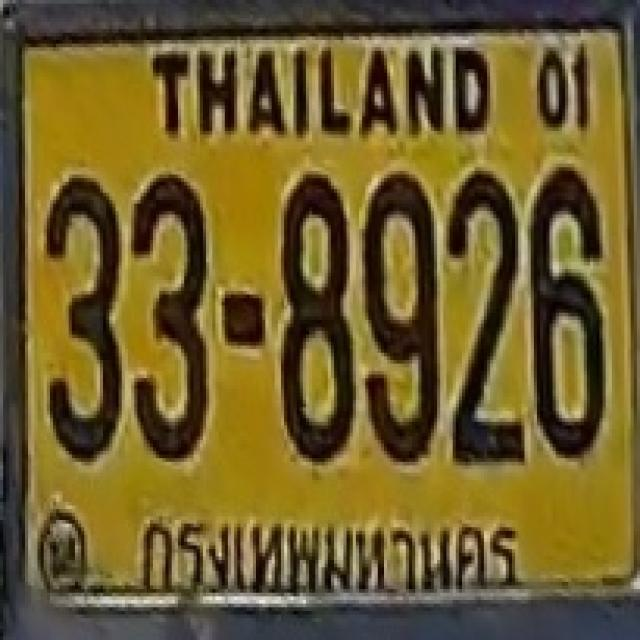0: (364, 171, 436, 353)
3: (44, 176, 122, 460), (131, 173, 206, 460), (45, 205, 120, 460)
8: (280, 171, 354, 458)
9: (362, 222, 437, 458)
BKK: (131, 495, 518, 598)
